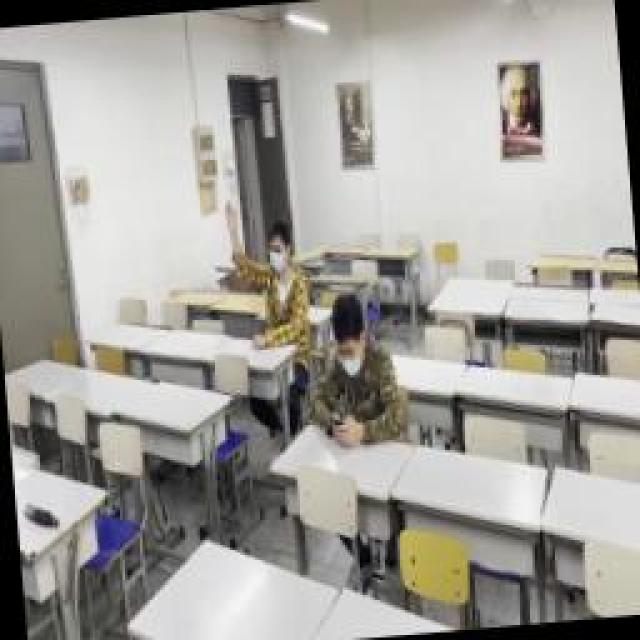phone: (305, 290, 400, 448)
study: (222, 195, 310, 350)
